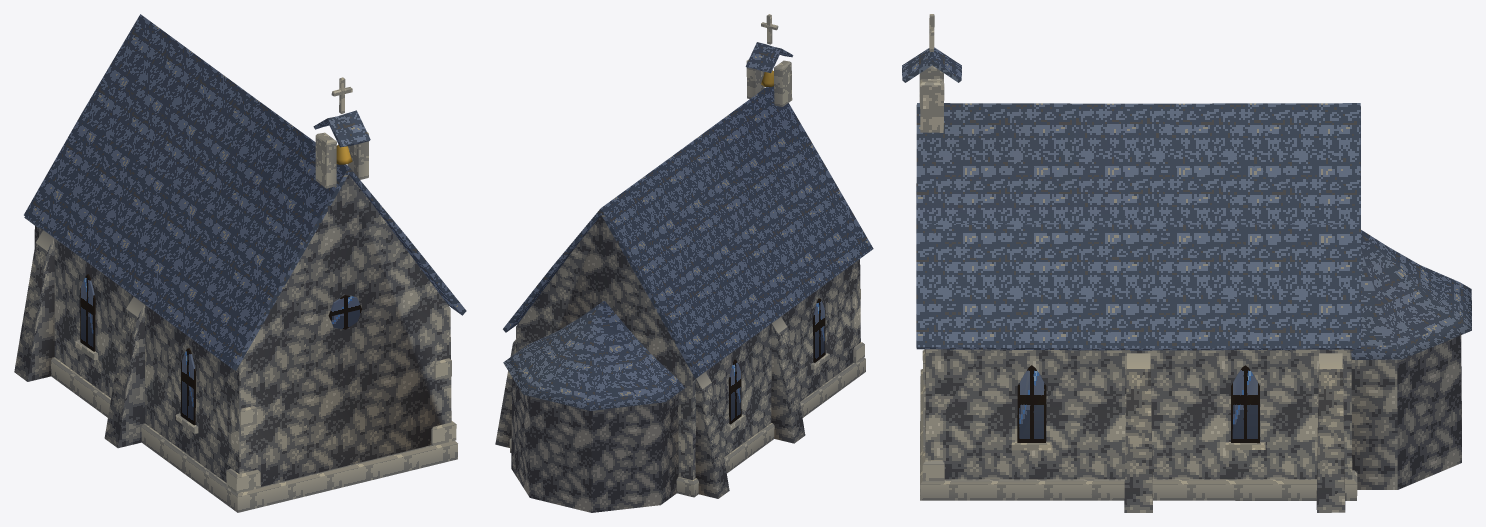
Rendered from vlg.chapel__doorway.glb.
The picture shows the model from 3 angles, left to right: view 1: azimuth 30°, elevation 25°; view 2: azimuth 150°, elevation 25°; view 3: azimuth 270°, elevation 25°; orthographic projection. The views are drawn at different scales.
Parts seen in each view (by area): view 1: kit_roof, kit_walls, kit_stonework, kit_fittings; view 2: kit_roof, kit_walls, kit_stonework, kit_fittings; view 3: kit_roof, kit_walls, kit_stonework, kit_fittings.
Part boxes in pixels (x1,y1,x2,y2): kit_roof: (24,14,466,370); kit_walls: (34,174,451,486); kit_stonework: (14,132,457,512); kit_fittings: (75,77,361,433); kit_roof: (503,42,873,410); kit_walls: (511,215,860,512); kit_stonework: (495,59,865,498); kit_fittings: (727,14,829,431); kit_roof: (902,47,1471,359); kit_walls: (925,335,1461,489); kit_stonework: (919,65,1357,512); kit_fittings: (929,14,1265,450).
Size of the model in its own units: 6.91 by 9.98 by 12.
5 materials, 4 textured.
